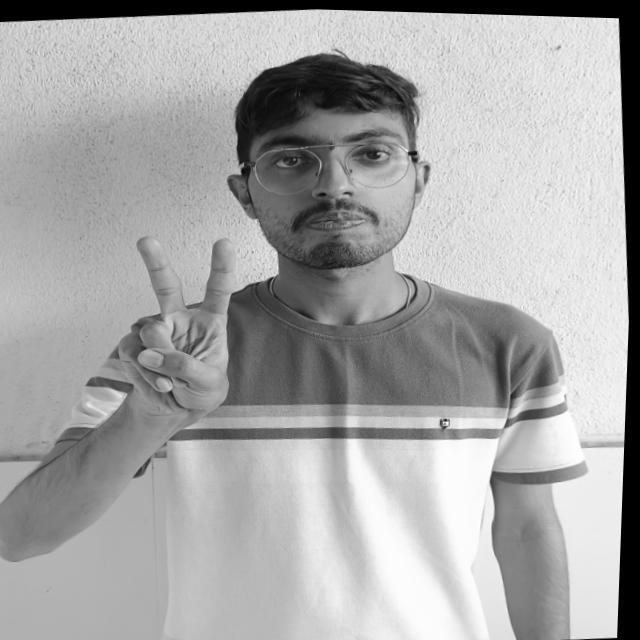Victory: (89, 216, 281, 460)
